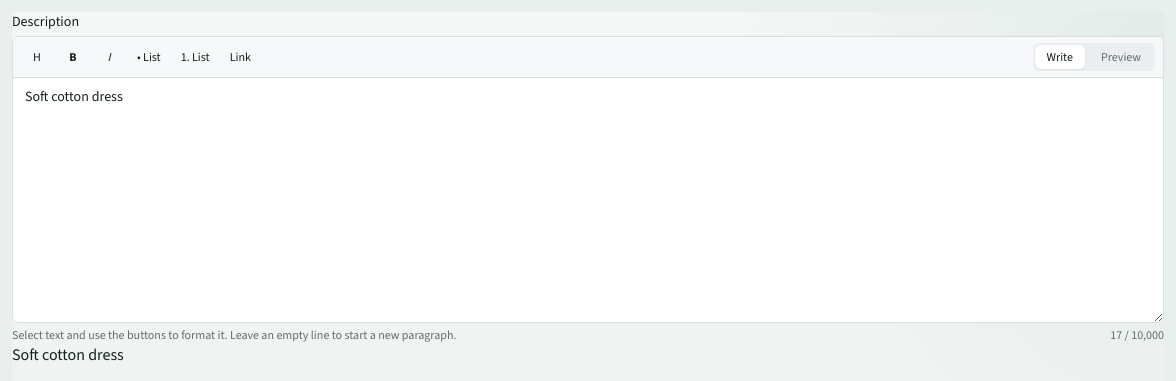
Test: DescriptionEditor › formats selected text with the toolbar and previews it
Click the button named "Bold (Ctrl+B)" at (73, 57), box [57,45,89,69]
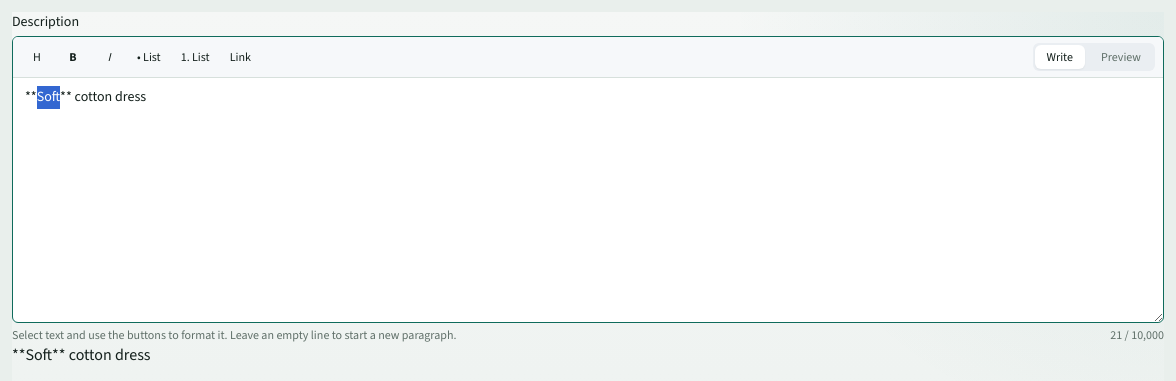
Now the text with test id "value" reads "**Soft** cotton dress", box [12,344,150,364]
Click the tab "Preview" at (1121, 57), box [1089,45,1153,69]
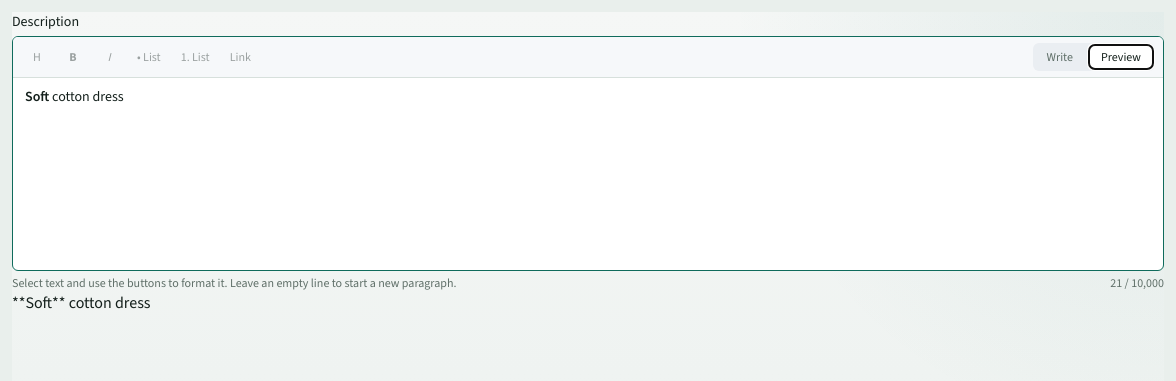
Now the button named "Bold (Ctrl+B)" is disabled, box [57,45,89,69]
Click the tab "Write" at (1060, 57), box [1035,45,1085,69]
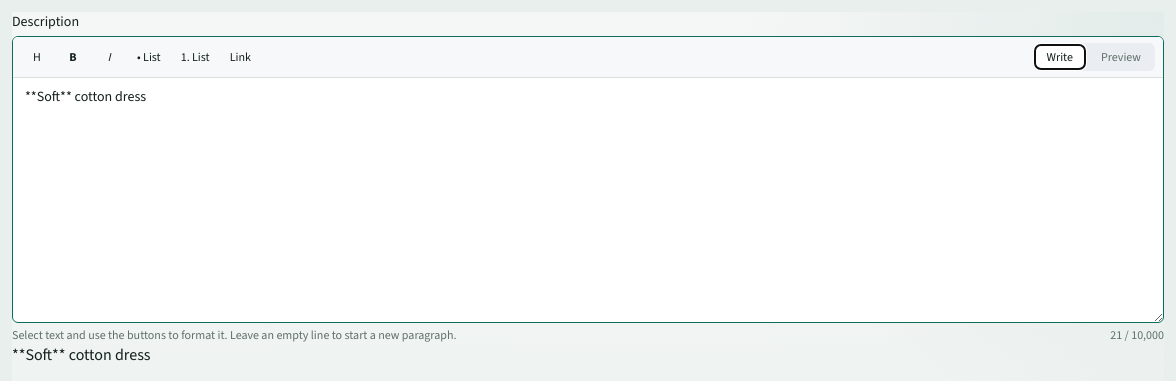
Now the text box labelled "Description" holds "**Soft** cotton dress"
